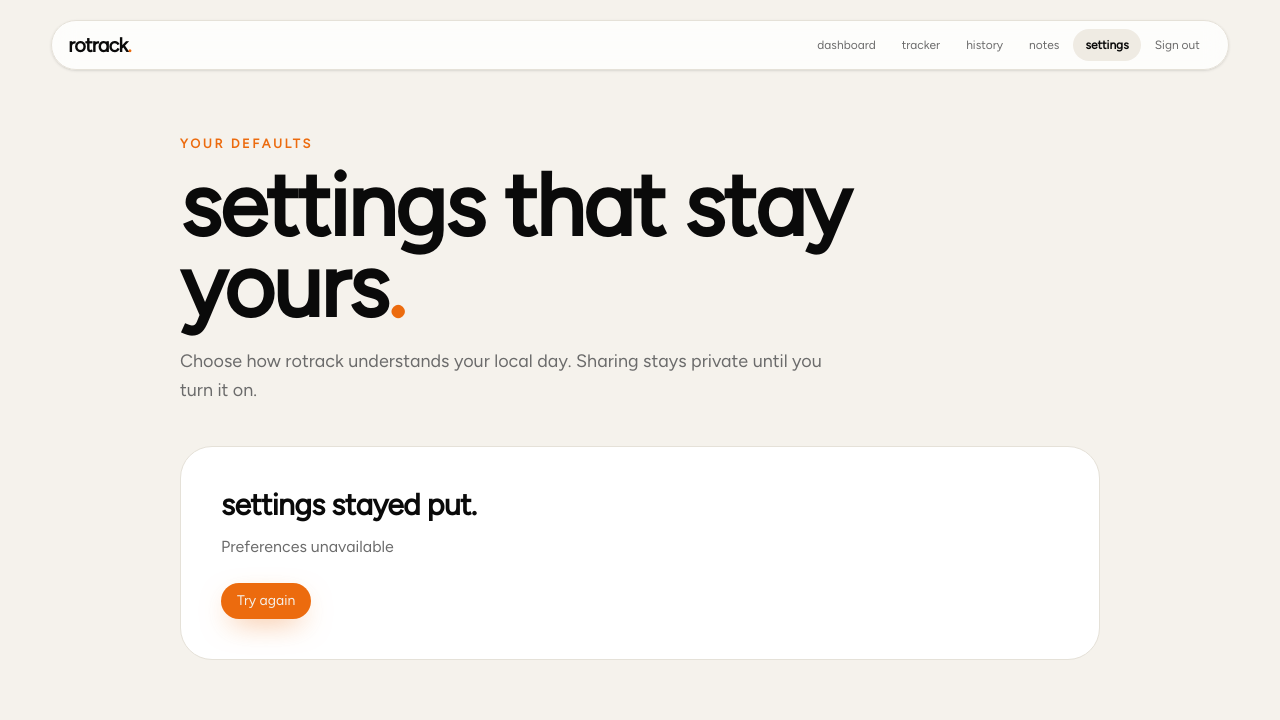
Test case: SettingsPage › shows a retry action when loading fails
Expected: the message shows "Preferences unavailable", x1=221 y1=537 x2=394 y2=556
What coordinates should you click on to do the following:
click the button "Try again"
I would click on:
 (266, 601)
Its box is x1=221 y1=583 x2=311 y2=619.
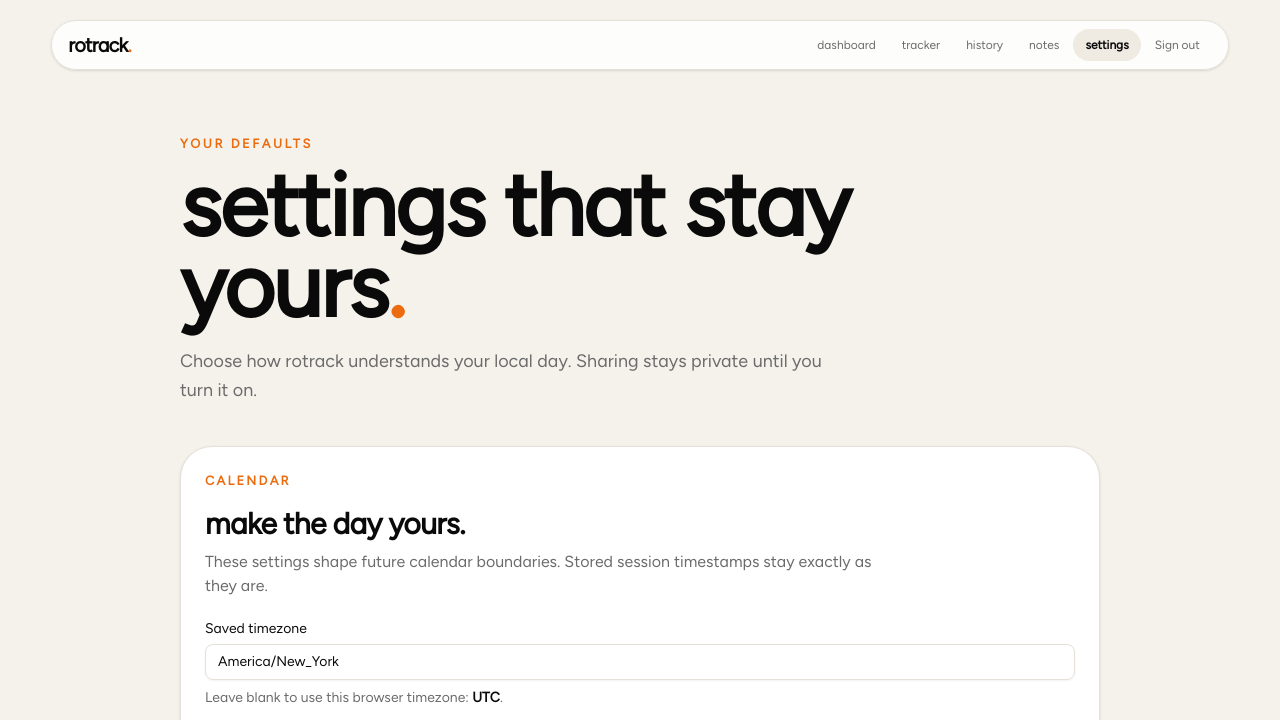
Now the field showing "America/New_York" is shown, box x1=205 y1=644 x2=1075 y2=680
